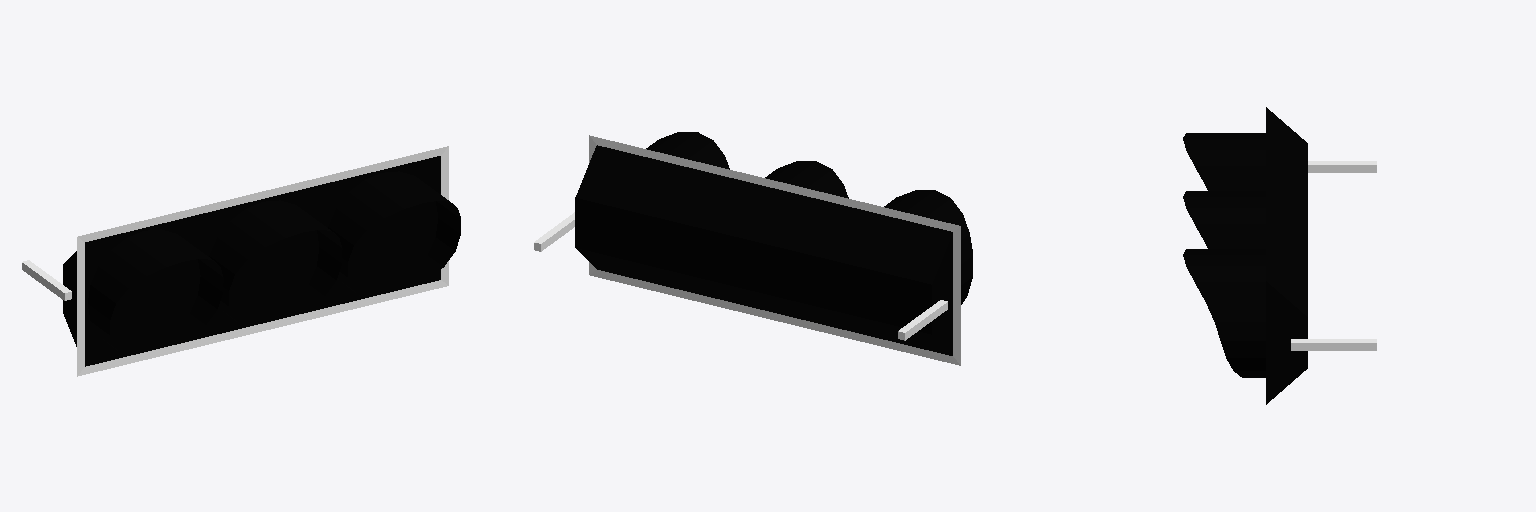
The model's file is TLS3_horizontal.obj.
3 views of the same model, side by side, from view 1: azimuth 30°, elevation 25°; view 2: azimuth 150°, elevation 25°; view 3: azimuth 270°, elevation 25° (orthographic).
Bounding box in the file's own units: 3.12 × 1.12 × 1.41.